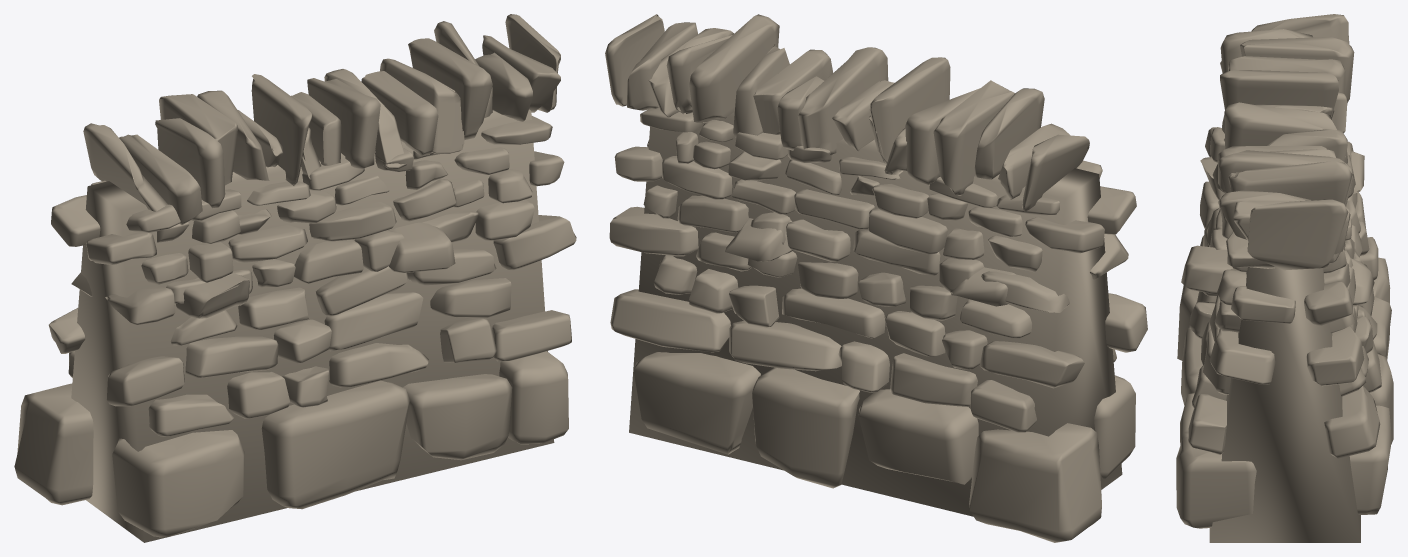
The model's file is boundary.dry_stone.wall_b.glb.
3 views of the same model, side by side, from view 1: azimuth 30°, elevation 25°; view 2: azimuth 150°, elevation 25°; view 3: azimuth 270°, elevation 25° (orthographic). The views are drawn at different scales.
Parts seen in each view (by area): view 1: main__stone_a98; view 2: main__stone_a98; view 3: main__stone_a98.
Part boxes in pixels (x1,y1,x2,y2): main__stone_a98: (14,14,576,542); main__stone_a98: (605,14,1147,542); main__stone_a98: (1176,14,1393,542).
Bounding box in the file's own units: 2.31 × 1.74 × 0.9492.
